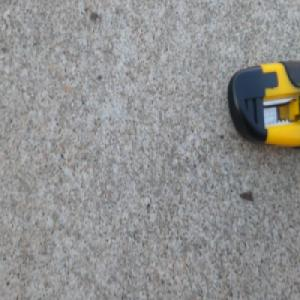Cutter: (226, 59, 300, 150)
